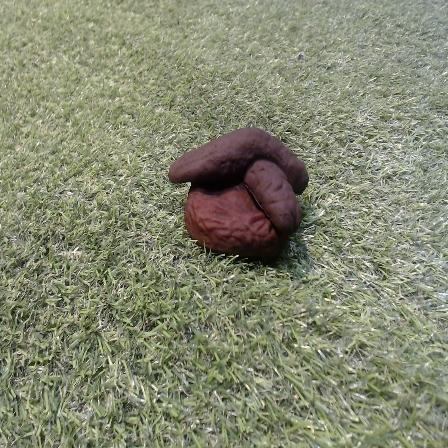dog-poop: (168, 123, 306, 267)
